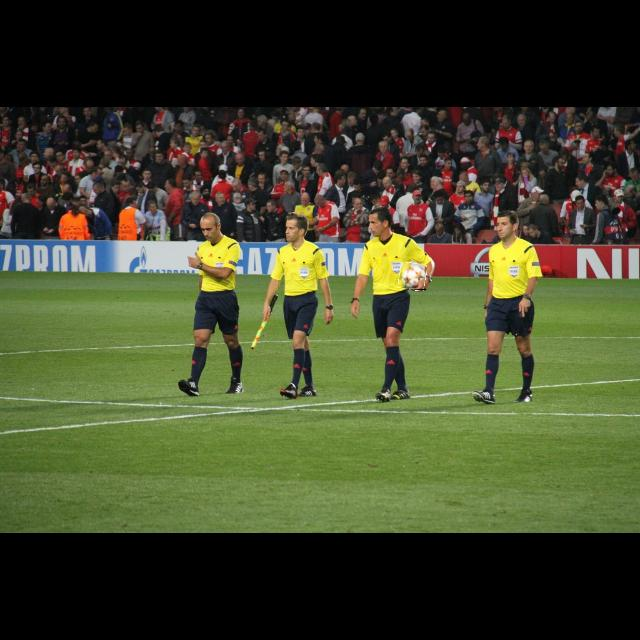Football: (400, 264, 426, 290)
